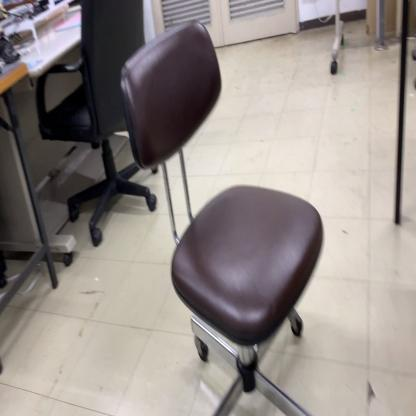chair: (118, 18, 328, 416), (34, 0, 158, 249)
